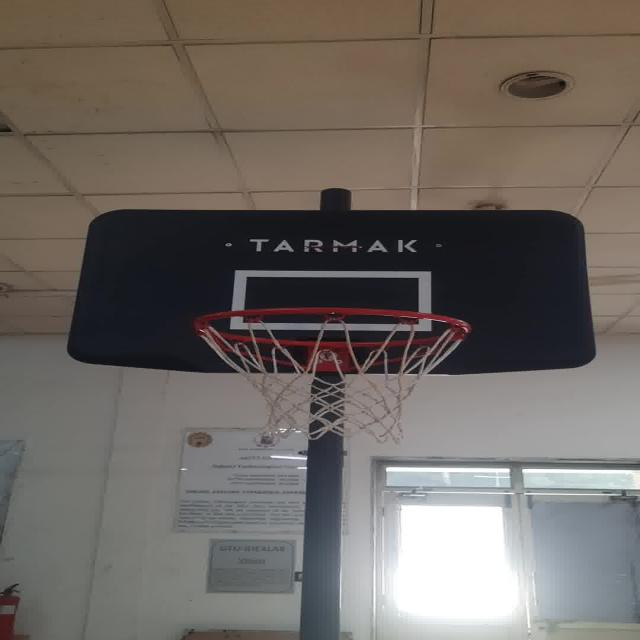objects: (187, 307, 480, 440), (233, 267, 435, 329)
